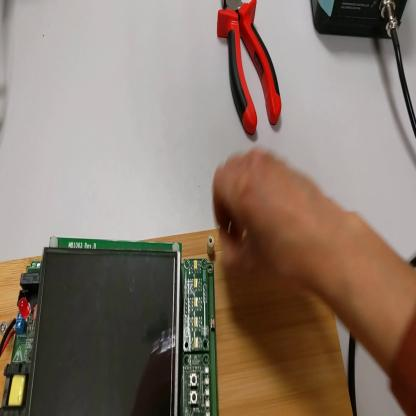hand: (213, 149, 333, 293)
low voltage board: (1, 235, 219, 416)
pliers: (219, 3, 284, 138)
welder station: (310, 1, 408, 40)
working area: (1, 230, 354, 416)
